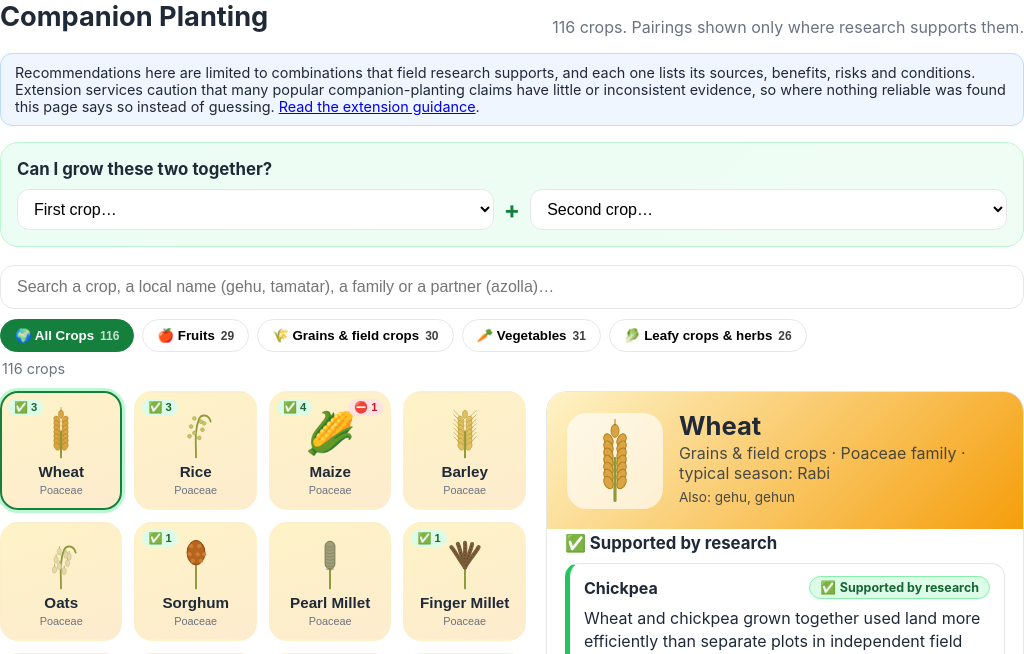
Test: the checker explains a documented conflict with its sources
Select "Tomato" in the dropdown named "First crop": (255, 210) [17,189,494,230]
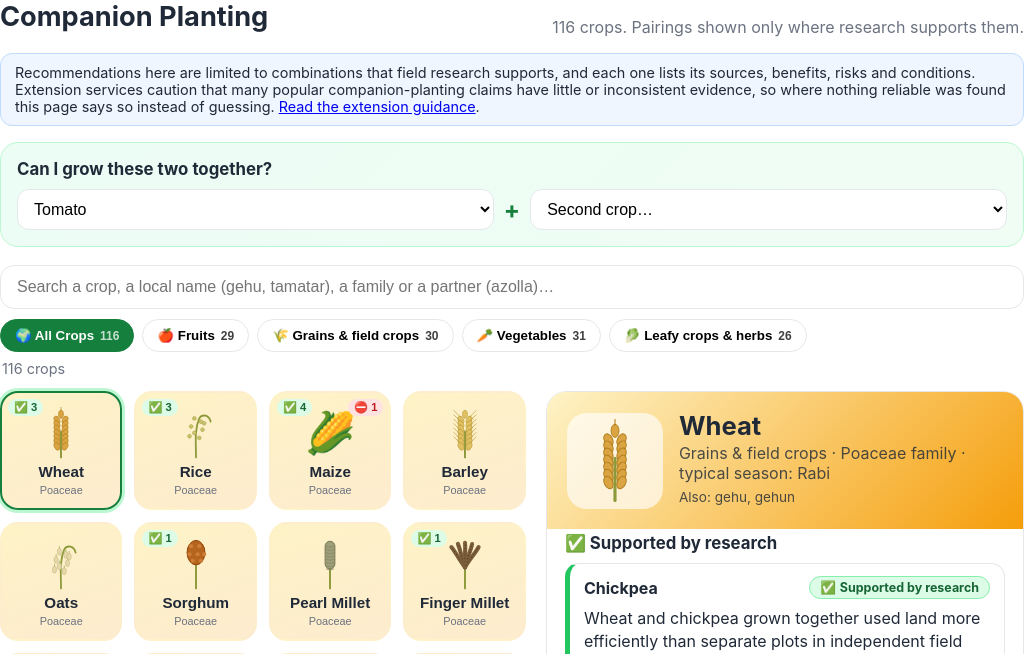
Select "Potato" in the dropdown named "Second crop": (769, 210) [530,189,1007,230]
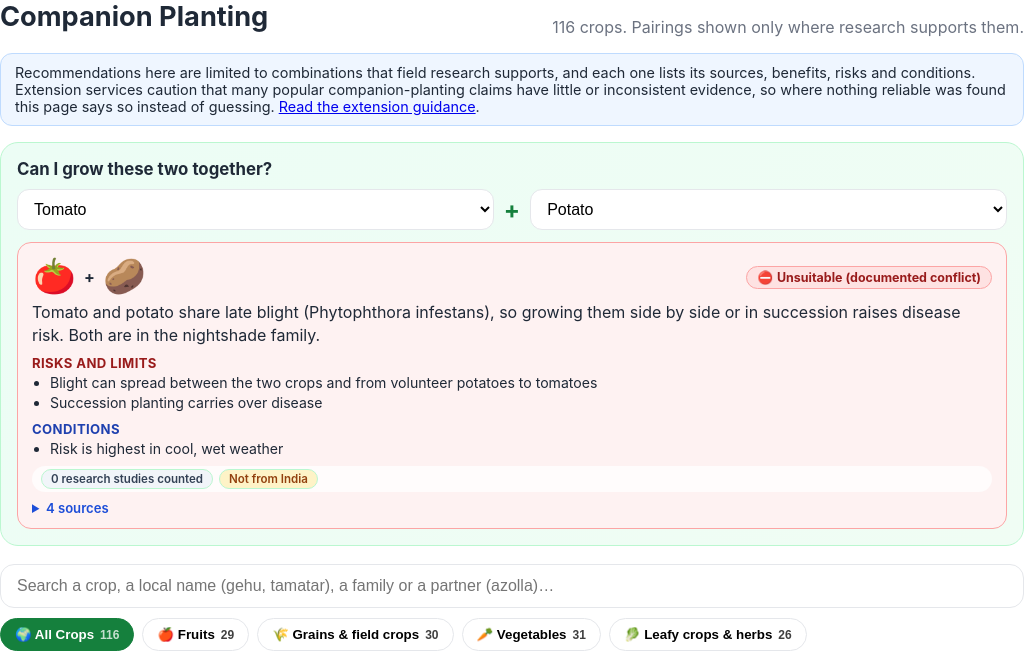
Check: the text "⛔ Unsuitable (documented conflict)" is shown, box [746,266,992,288]
Check: the text "late blight" is shown, box [32,302,960,345]
Check: the heading "sources?" is shown, box [46,500,109,516]
